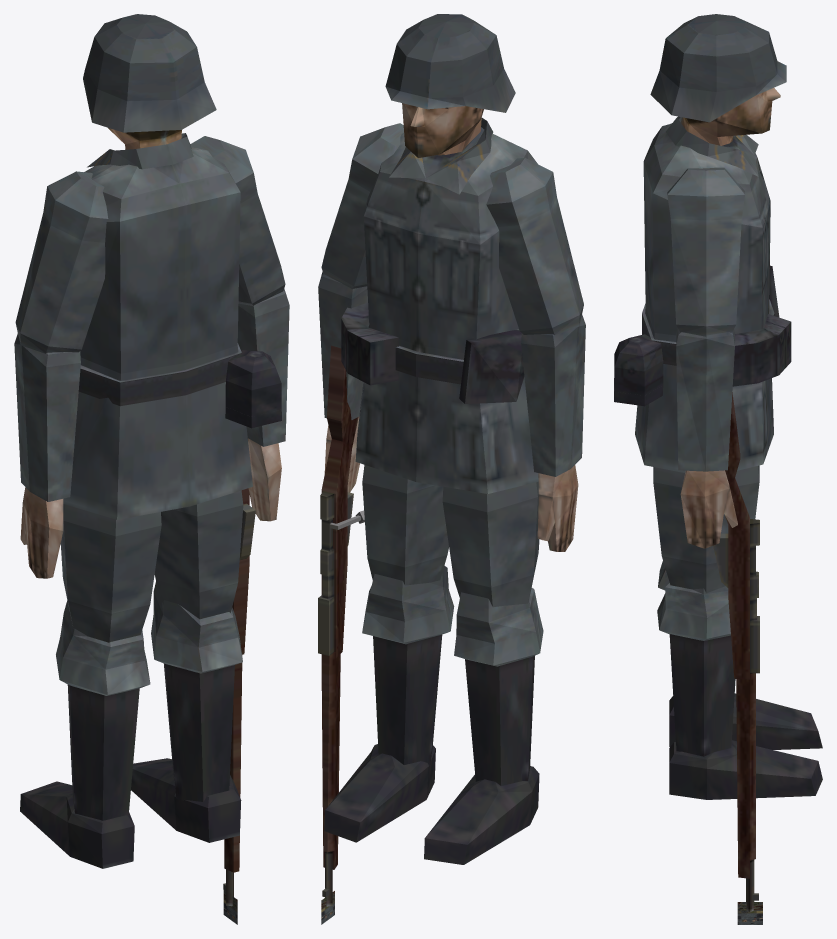
The model's file is vc_rifle_infantry.glb.
The picture shows the model from 3 angles, left to right: view 1: azimuth 30°, elevation 25°; view 2: azimuth 150°, elevation 25°; view 3: azimuth 270°, elevation 25°; orthographic projection. The views are drawn at different scales.
Visible parts, largest first — view 1: torso, head, rleg, lleg, luparm, lloarm, lthigh, rthigh, rloarm, lfoot, ruparm, rfoot (+1 smaller); view 2: torso, head, lleg, rleg, luparm, gun, lloarm, lthigh, rthigh, lfoot, rfoot, ruparm (+1 smaller); view 3: torso, head, rloarm, ruparm, rleg, gun, rfoot, rthigh, lfoot, flare.
Part boxes in pixels (box(x1,y1,x2,y2)): torso: box(63, 133, 281, 519); head: box(83, 14, 216, 149); rleg: box(151, 581, 242, 801); lleg: box(56, 600, 150, 820); luparm: box(15, 171, 108, 353); lloarm: box(14, 333, 80, 578); lthigh: box(60, 504, 161, 642); rthigh: box(154, 490, 243, 619); rloarm: box(237, 288, 289, 521); lfoot: box(20, 781, 134, 868); ruparm: box(190, 136, 285, 305); rfoot: box(131, 758, 241, 842); torso: box(341, 118, 538, 493); head: box(385, 14, 515, 157); lleg: box(454, 588, 543, 785); rleg: box(362, 565, 454, 766); luparm: box(486, 157, 583, 334); gun: box(318, 345, 364, 906); lloarm: box(521, 314, 585, 551); lthigh: box(442, 481, 539, 607); rthigh: box(362, 465, 448, 585); lfoot: box(424, 766, 539, 864); rfoot: box(324, 744, 435, 842); ruparm: box(321, 123, 403, 288); torso: box(614, 116, 791, 472); head: box(650, 14, 786, 145); rloarm: box(676, 328, 737, 548); ruparm: box(667, 167, 744, 336); rleg: box(657, 572, 735, 756); gun: box(713, 392, 759, 911); rfoot: box(669, 740, 822, 799); rthigh: box(653, 465, 759, 593); lfoot: box(669, 693, 822, 749); flare: box(737, 902, 762, 924).
Bounding box in the file's own units: 0.5264 × 1.8 × 0.3973.
1 material, 1 textured.
